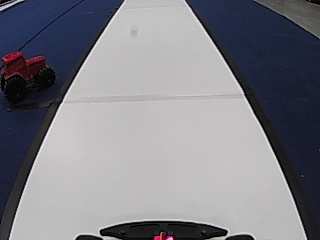tractor: (0, 50, 56, 103)
